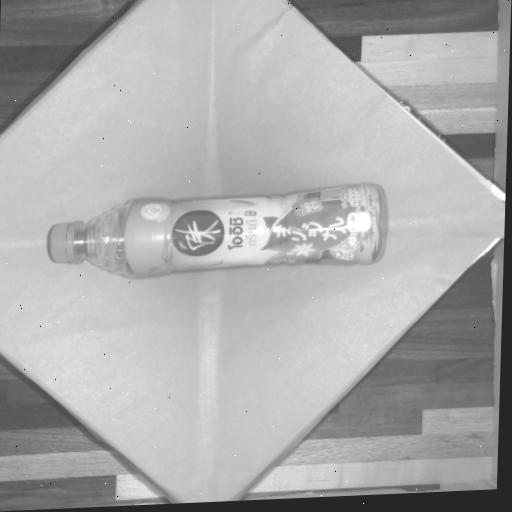bottle: (36, 152, 403, 310)
